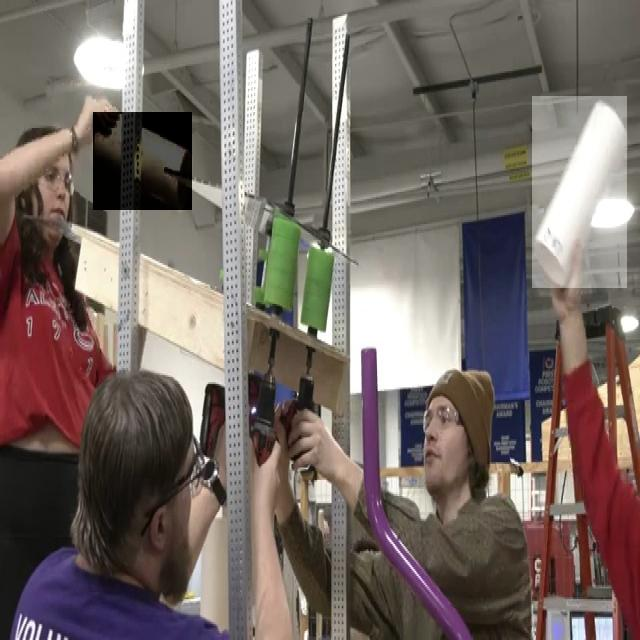Coral: (532, 96, 627, 288), (93, 112, 192, 210)
